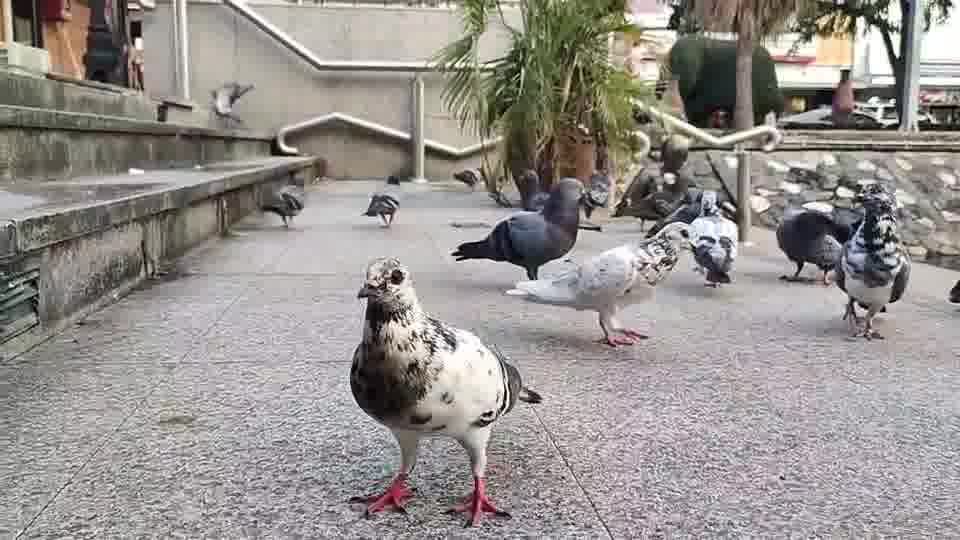Pigeon: (347, 254, 542, 528), (448, 175, 601, 281), (503, 243, 649, 347), (826, 184, 911, 341), (774, 204, 850, 284), (207, 79, 255, 123), (259, 190, 304, 228), (359, 191, 400, 227), (452, 167, 481, 192), (947, 278, 959, 304)
